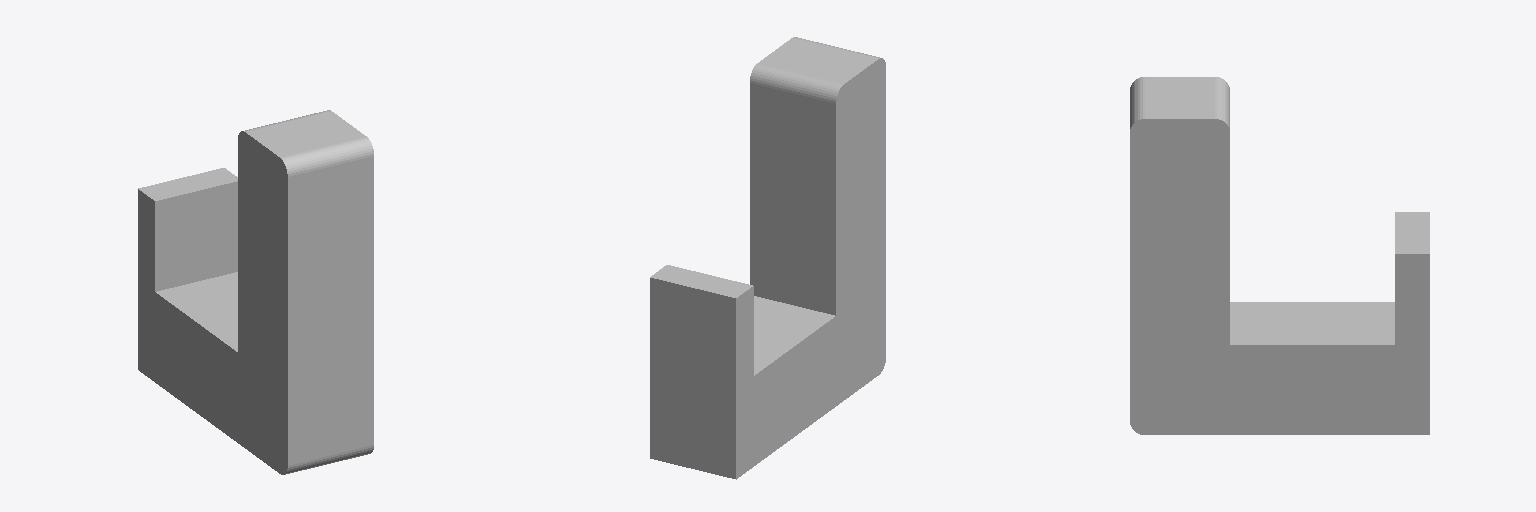
File: cerrojo.obj
The picture shows the model from 3 angles: view 1: azimuth 30°, elevation 25°; view 2: azimuth 150°, elevation 25°; view 3: azimuth 270°, elevation 25°; orthographic projection.
Visible parts, largest first — view 1: Cube; view 2: Cube; view 3: Cube.
Part boxes in pixels (x1,y1,x2,y2): Cube: (138, 110, 373, 474); Cube: (650, 37, 885, 479); Cube: (1130, 77, 1429, 434).
Size of the model in its own units: 2 by 6.98 by 6.